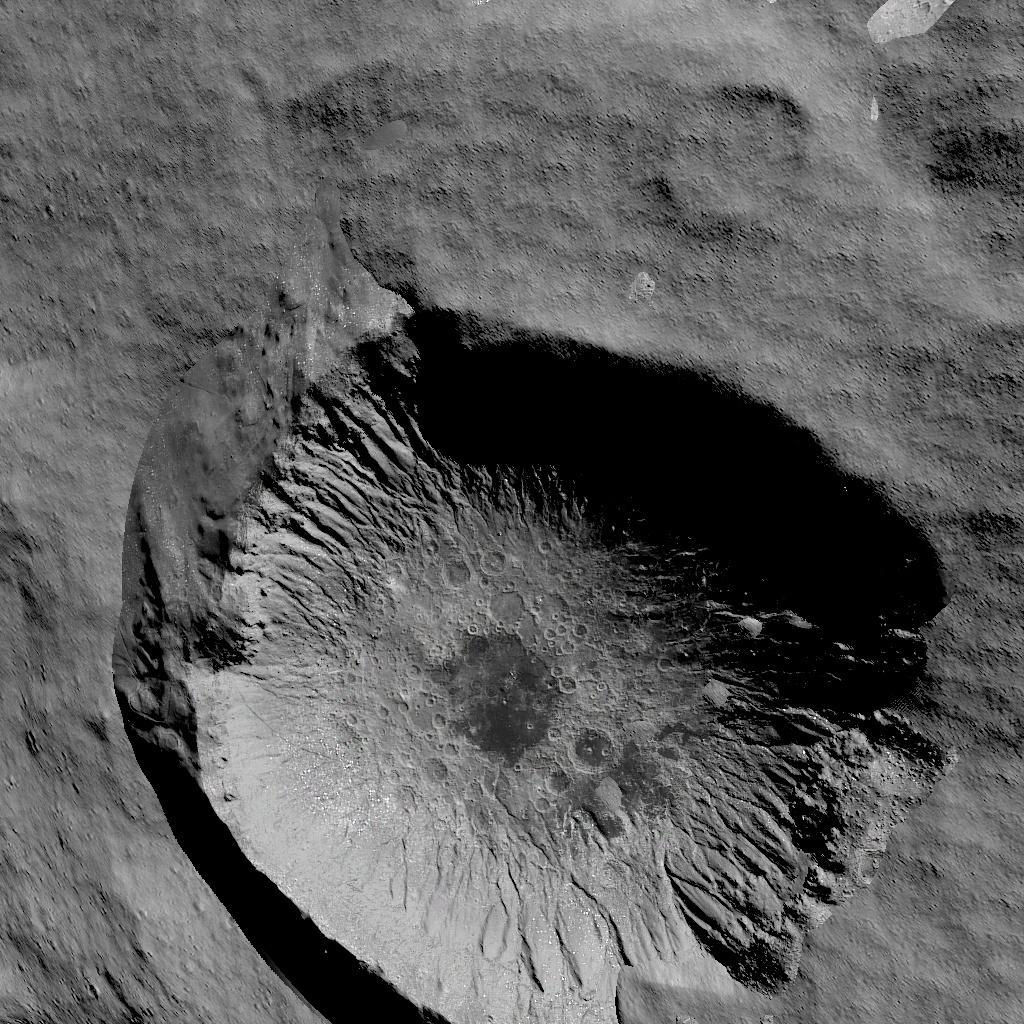Crater: (110, 273, 978, 1024), (663, 68, 829, 240)
Plan surface: (9, 0, 624, 260)
